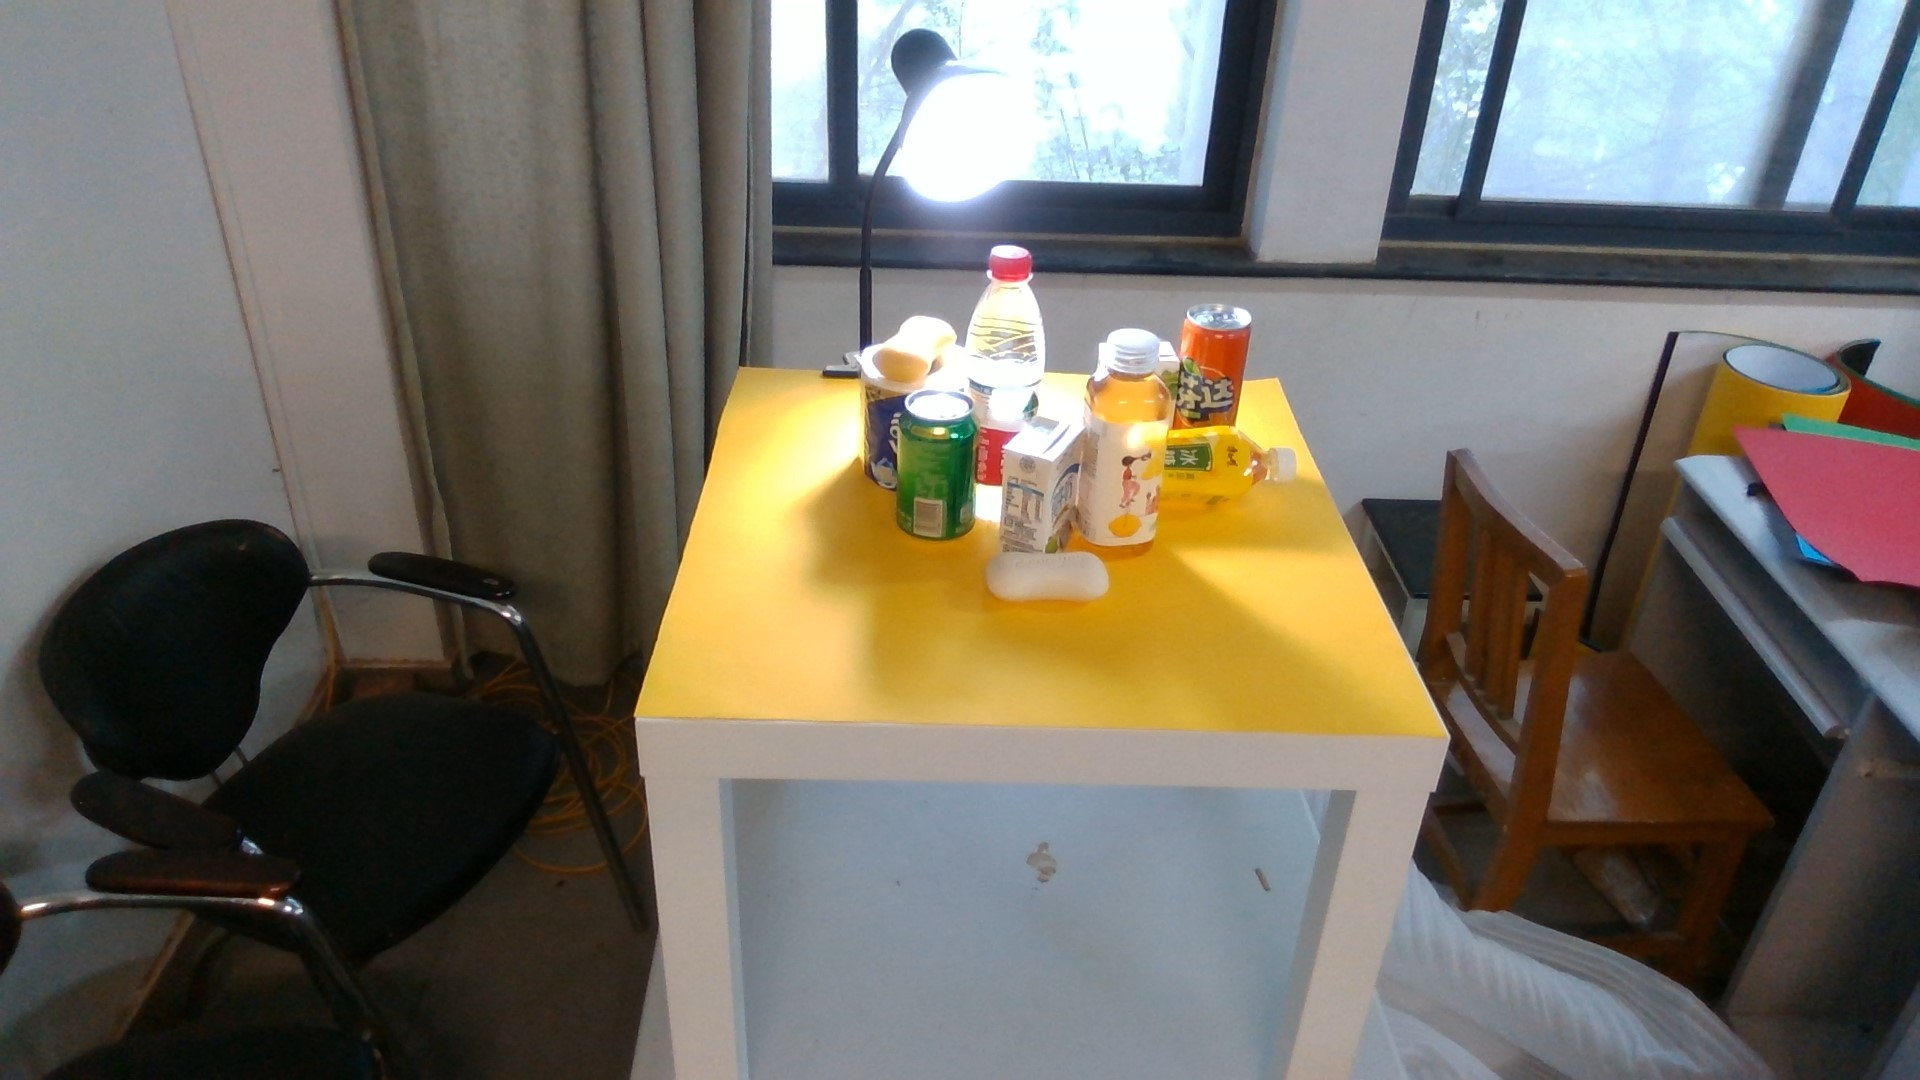BB003: (982, 549, 1112, 607), (873, 313, 957, 384)
BB009: (1159, 339, 1180, 384)
BB013: (1001, 414, 1083, 546)
CA002: (862, 386, 901, 492)
ZC001: (894, 388, 976, 542)
ZC003: (1182, 299, 1251, 425)
ZC011: (1168, 425, 1295, 506)
ZC012: (1083, 328, 1170, 550)
ZC014: (963, 244, 1044, 396)
